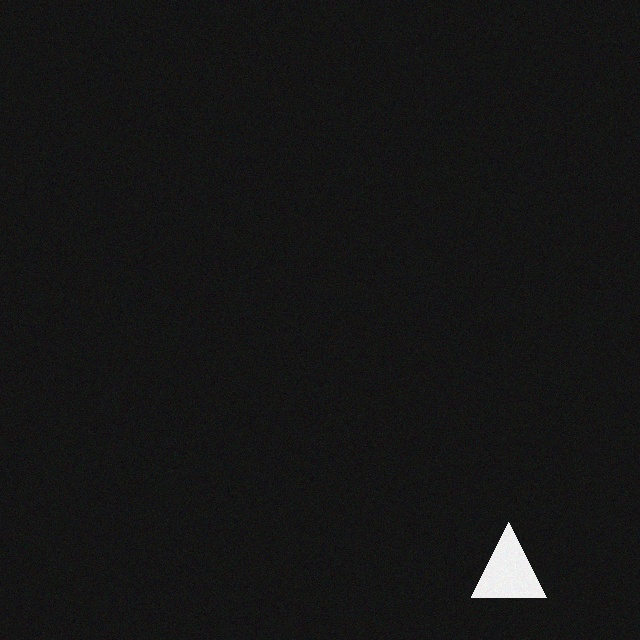triangle: (476, 524, 551, 599)
